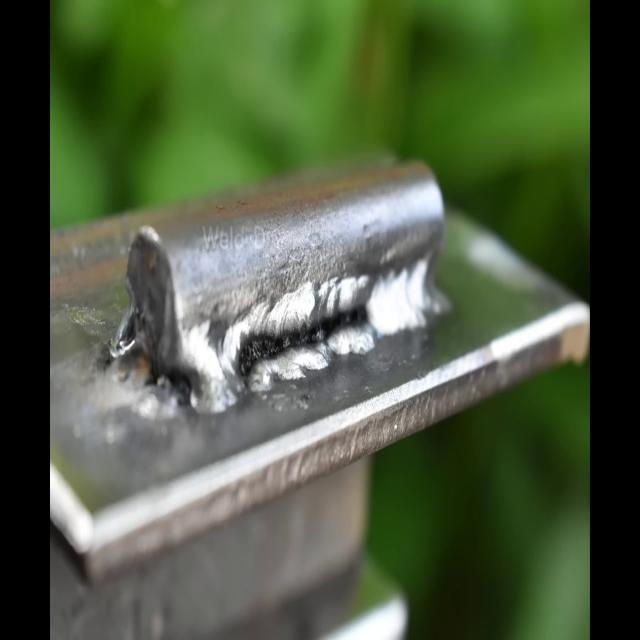Bad Weld: (173, 252, 433, 412)
Defect: (238, 302, 365, 380)
